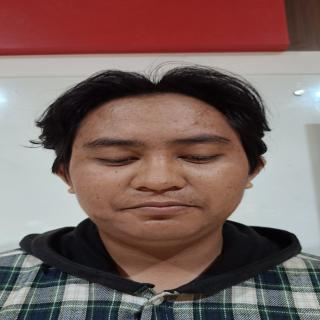Sedih: (63, 90, 252, 249)
